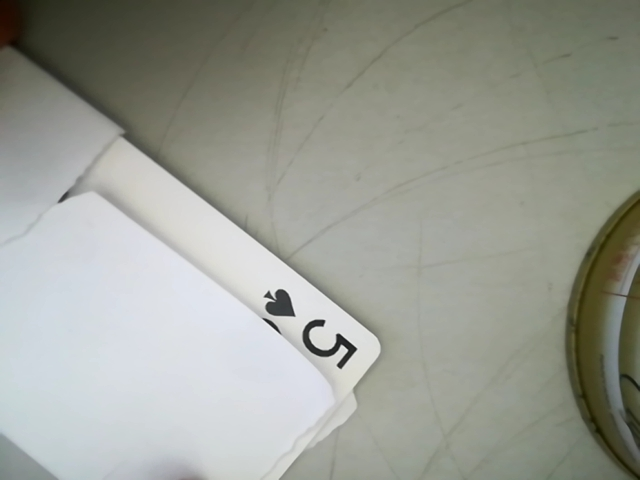ht 5: (243, 279, 363, 370)
